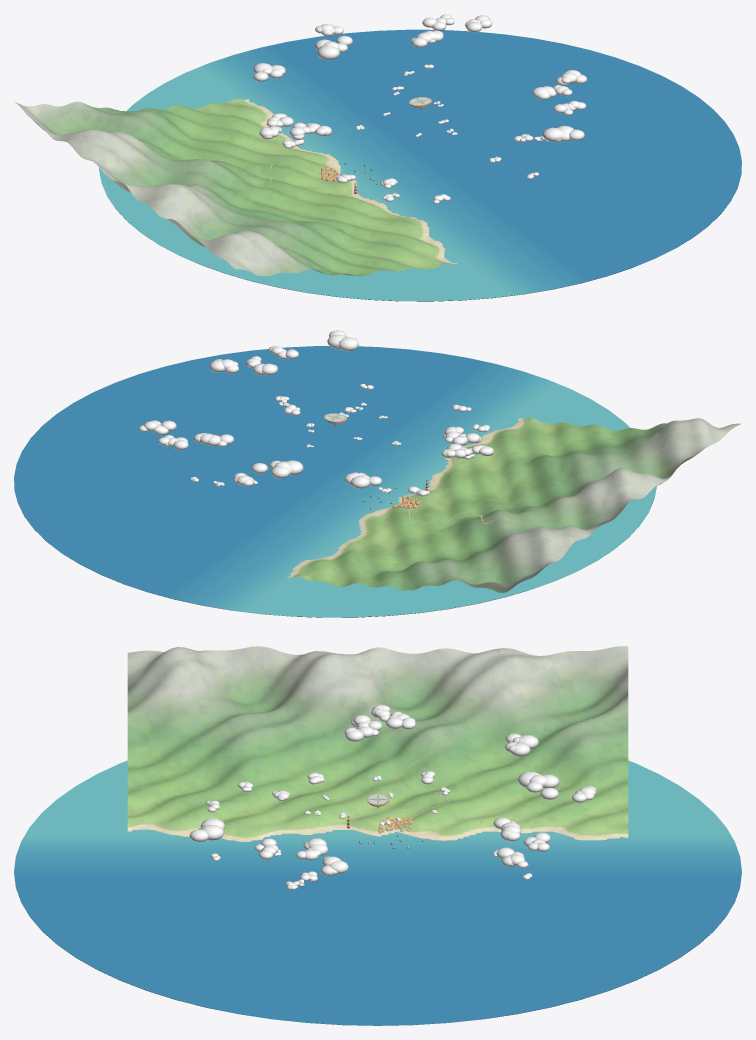
File: saltcrest.glb
The picture shows the model from 3 angles, top to bottom: view 1: azimuth 30°, elevation 25°; view 2: azimuth 150°, elevation 25°; view 3: azimuth 270°, elevation 25°; orthographic projection. The views are drawn at different scales.
Visible parts, largest first — view 1: Below_Sea, Below_Land, Clouds_Horizon_1, Clouds_Horizon_2, Clouds_Low_1; view 2: Below_Sea, Below_Land, Clouds_Horizon_1, Clouds_Horizon_2, Clouds_Low_1; view 3: Below_Sea, Below_Land, Clouds_Horizon_1, Clouds_Horizon_2, Clouds_Low_1.
Boxes of the visible parts, bbox=[...] form: Below_Sea: bbox=[99, 29, 741, 301]; Below_Land: bbox=[14, 98, 457, 276]; Clouds_Horizon_1: bbox=[259, 14, 587, 142]; Clouds_Horizon_2: bbox=[253, 15, 492, 140]; Clouds_Low_1: bbox=[282, 71, 549, 204]; Below_Sea: bbox=[14, 346, 656, 617]; Below_Land: bbox=[286, 418, 741, 592]; Clouds_Horizon_1: bbox=[158, 330, 493, 458]; Clouds_Horizon_2: bbox=[138, 420, 481, 488]; Clouds_Low_1: bbox=[213, 383, 489, 496]; Below_Sea: bbox=[14, 760, 741, 1025]; Below_Land: bbox=[127, 646, 628, 841]; Clouds_Horizon_1: bbox=[189, 704, 550, 875]; Clouds_Horizon_2: bbox=[344, 715, 596, 868]; Clouds_Low_1: bbox=[206, 771, 435, 889].
Bounding box in the file's own units: 6600 × 832 × 6400.
Materials: 23 (23 with a texture image).
